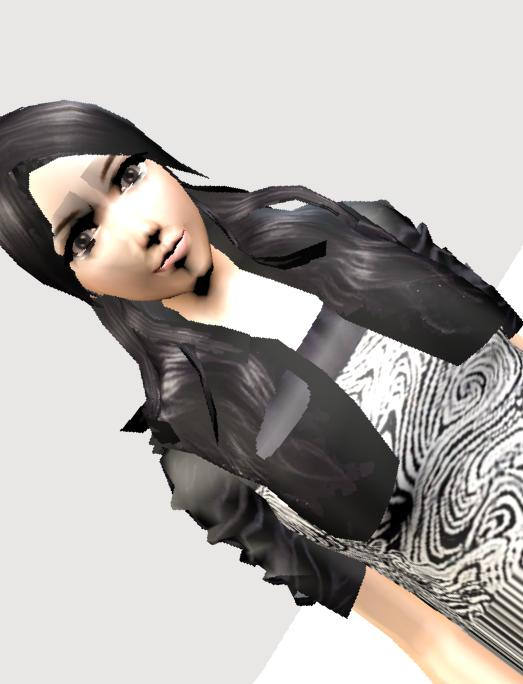clip: (240, 384, 325, 425)
